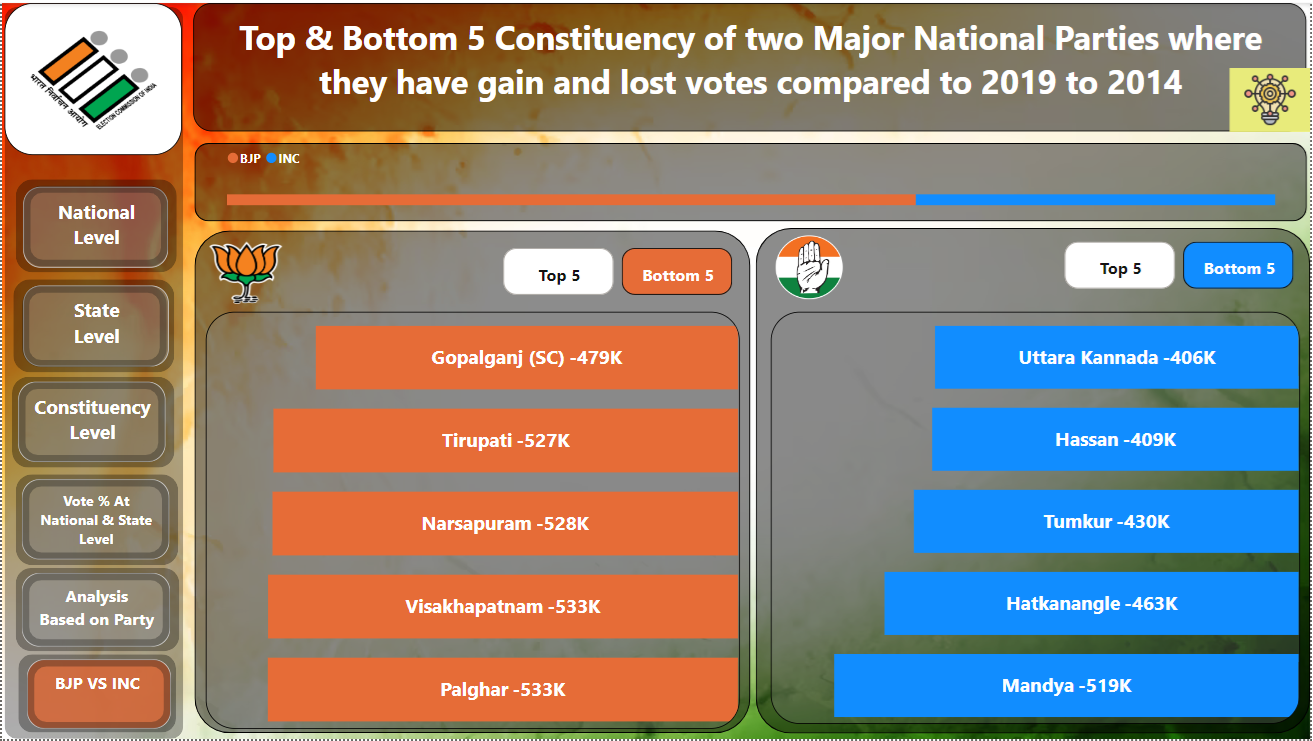

The dashboard page shown, as its layout file describes it:
{"tool":"powerbi","page":{"name":"BJP VS INC","canvas":[1280,720],"ordinal":7},"visuals":[{"type":"image","box":[0,0,1279.7,720.1],"z":0},{"type":"image","box":[1200.3,63.3,79.4,62.1],"z":0,"group":"g7"},{"type":"shape","box":[13,172.1,157.6,91.2],"z":0,"group":"g5"},{"type":"shape","box":[11.6,270.4,157.6,91.2],"z":0,"group":"g6"},{"type":"shape","box":[10,366,159,89],"z":0,"group":"g2"},{"type":"shape","box":[12.9,461,159,89],"z":0,"group":"g3"},{"type":"shape","box":[12.9,553,160,81.4],"z":0,"group":"g4"},{"type":"shape","box":[15.7,637.1,154.3,76.6],"z":0,"group":"g1"},{"type":"actionButton","box":[1200.3,63.3,79.4,62.1],"z":1000,"group":"g7"},{"type":"textbox","box":[20,178.9,141.9,78.8],"z":1000,"group":"g5"},{"type":"shape","box":[188,222.7,543.7,491.6],"z":1000},{"type":"textbox","box":[20.9,276.6,142.2,78.8],"z":1000,"group":"g6"},{"type":"textbox","box":[15.9,371.2,143.8,78.6],"z":1000,"group":"g2"},{"type":"textbox","box":[18.8,466.2,143.8,78.6],"z":1000,"group":"g3"},{"type":"textbox","box":[18.8,557.7,144.8,71.9],"z":1000,"group":"g4"},{"type":"textbox","box":[24,642.1,140.8,68.3],"z":1000,"group":"g1"},{"type":"shape","box":[188,137.4,1088,76.6],"z":2000},{"type":"actionButton","box":[20.9,177.9,141.7,79.5],"z":2000,"group":"g5"},{"type":"actionButton","box":[20.6,276.6,141.7,80],"z":2000,"group":"g6"},{"type":"actionButton","box":[15.9,371.1,143.8,78.6],"z":2000,"group":"g2"},{"type":"actionButton","box":[18.8,466.1,143.8,78.6],"z":2000,"group":"g3"},{"type":"actionButton","box":[18.8,557.7,144.8,71.9],"z":2000,"group":"g4"},{"type":"actionButton","box":[24,642.1,140.8,68.3],"z":2000,"group":"g1"},{"type":"shape","box":[737.5,219.8,542.3,494.5],"z":3000},{"type":"barChart","fields":{"Category":["CombinedElectionData.Constituency"],"Y":["CombinedElectionData.VoteGainBJP"]},"box":[199.6,302.2,522,407.8],"z":4000},{"type":"barChart","fields":{"Category":["CombinedElectionData.Constituency"],"Y":["CombinedElectionData.VoteGainINC"]},"box":[751.9,302.2,517.7,403.4],"z":5000},{"type":"advancedSlicerVisual","fields":{"Values":["Top Bottom.Metric"]},"box":[485.9,234.3,235.7,56.4],"z":6000},{"type":"advancedSlicerVisual","fields":{"Values":["Top Bottom INC.Metric"]},"box":[1033.9,228.5,235.7,56.4],"z":7000},{"type":"textbox","box":[187.4,0,1089,125.4],"z":8000},{"type":"barChart","fields":{"Y":["Sum(constituency_wise_results_2019.total_votes)"],"Series":["constituency_wise_results_2019.party"]},"box":[220.1,137,1034.5,75.8],"z":9000},{"type":"image","box":[198.1,228.5,81,70.9],"z":10000},{"type":"image","box":[751.9,222.7,75.2,72.3],"z":11000},{"type":"shape","box":[3,3.8,175,716.2],"z":12000},{"type":"image","box":[2.9,0,173.5,148.9],"z":13000},{"type":"group","id":"g1","title":"BJP VS INC ","box":[15.7,637.1,154.3,72.9],"z":14000},{"type":"group","id":"g2","title":"Vote % At National & State Level","box":[10,366,158.6,88.6],"z":15000},{"type":"group","id":"g3","title":"Vote % At National & State Level","box":[12.9,461,158.6,88.6],"z":16000},{"type":"group","id":"g4","title":"Winning Party & Candidate Margin","box":[12.9,553,160,81.4],"z":17000},{"type":"group","id":"g5","title":"National Button","box":[13,172.1,157.6,91.2],"z":18000},{"type":"group","id":"g6","title":"State Level","box":[11.6,270.4,157.6,91.1],"z":19000},{"type":"group","id":"g7","title":"Insights","box":[1200.3,63.3,79.4,62.1],"z":20000}]}

Visuals, with their boxes in screenshot pixels (x1, y1, x2, y2), scaled from the page's 1280x720 canvas onto the 1313x741 screenshot:
image: (x1=0, y1=0, x2=1312, y2=740)
image: (x1=1231, y1=65, x2=1312, y2=129)
shape: (x1=13, y1=177, x2=175, y2=271)
shape: (x1=12, y1=278, x2=174, y2=372)
shape: (x1=10, y1=377, x2=173, y2=468)
shape: (x1=13, y1=474, x2=176, y2=566)
shape: (x1=13, y1=569, x2=177, y2=653)
shape: (x1=16, y1=656, x2=174, y2=735)
actionButton: (x1=1231, y1=65, x2=1312, y2=129)
textbox: (x1=21, y1=184, x2=166, y2=265)
shape: (x1=193, y1=229, x2=751, y2=735)
textbox: (x1=21, y1=285, x2=167, y2=366)
textbox: (x1=16, y1=382, x2=164, y2=463)
textbox: (x1=19, y1=480, x2=167, y2=561)
textbox: (x1=19, y1=574, x2=168, y2=648)
textbox: (x1=25, y1=661, x2=169, y2=731)
shape: (x1=193, y1=141, x2=1309, y2=220)
actionButton: (x1=21, y1=183, x2=167, y2=265)
actionButton: (x1=21, y1=285, x2=166, y2=367)
actionButton: (x1=16, y1=382, x2=164, y2=463)
actionButton: (x1=19, y1=480, x2=167, y2=561)
actionButton: (x1=19, y1=574, x2=168, y2=648)
actionButton: (x1=25, y1=661, x2=169, y2=731)
shape: (x1=757, y1=226, x2=1312, y2=735)
barChart - CombinedElectionData.Constituency x CombinedElectionData.VoteGainBJP: (x1=205, y1=311, x2=740, y2=731)
barChart - CombinedElectionData.Constituency x CombinedElectionData.VoteGainINC: (x1=771, y1=311, x2=1302, y2=726)
advancedSlicerVisual - Top Bottom.Metric: (x1=498, y1=241, x2=740, y2=299)
advancedSlicerVisual - Top Bottom INC.Metric: (x1=1061, y1=235, x2=1302, y2=293)
textbox: (x1=192, y1=0, x2=1309, y2=129)
barChart - Sum(constituency_wise_results_2019.total_votes) x constituency_wise_results_2019.party: (x1=226, y1=141, x2=1287, y2=219)
image: (x1=203, y1=235, x2=286, y2=308)
image: (x1=771, y1=229, x2=848, y2=304)
shape: (x1=3, y1=4, x2=183, y2=740)
image: (x1=3, y1=0, x2=181, y2=153)
"BJP VS INC " group: (x1=16, y1=656, x2=174, y2=731)
"Vote % At National & State Level" group: (x1=10, y1=377, x2=173, y2=468)
"Vote % At National & State Level" group: (x1=13, y1=474, x2=176, y2=566)
"Winning Party & Candidate Margin" group: (x1=13, y1=569, x2=177, y2=653)
"National Button" group: (x1=13, y1=177, x2=175, y2=271)
"State Level" group: (x1=12, y1=278, x2=174, y2=372)
"Insights" group: (x1=1231, y1=65, x2=1312, y2=129)
